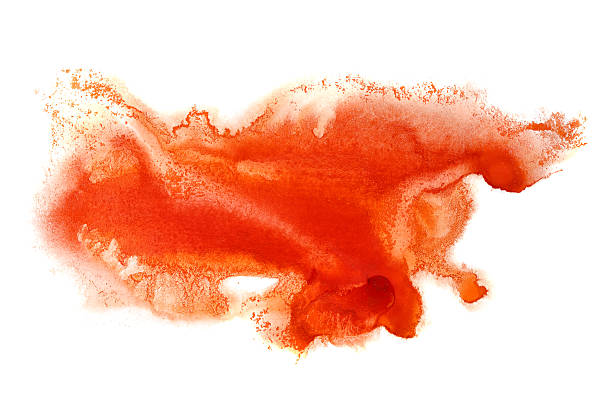blood: (35, 66, 590, 367)
